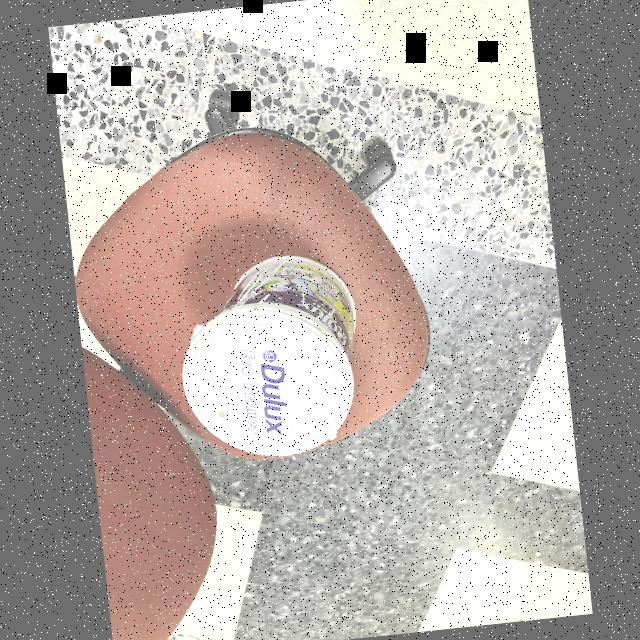paint_bucket: (172, 236, 379, 476)
